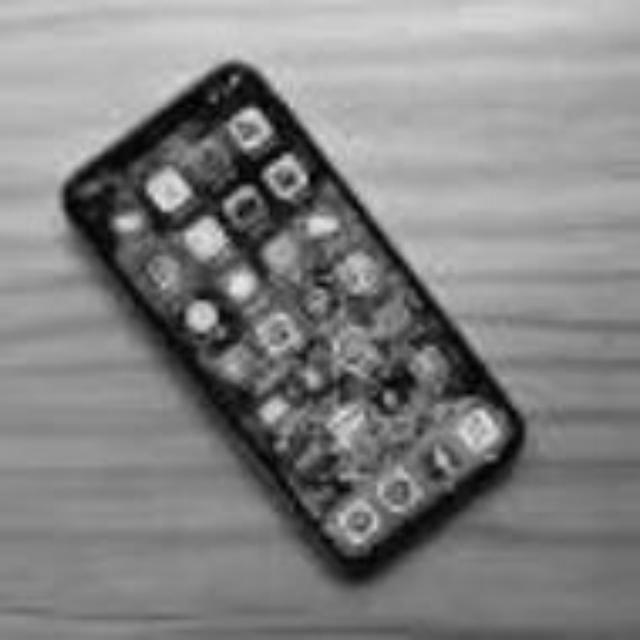fake: (36, 44, 578, 592)
